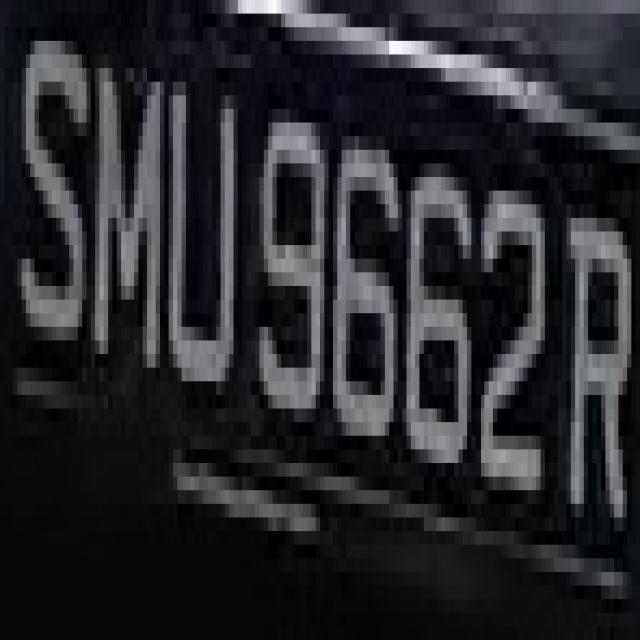2: (476, 150, 549, 531)
6: (398, 122, 480, 504), (324, 109, 398, 449)
8: (259, 54, 333, 463)
M: (86, 27, 164, 368)
R: (567, 136, 627, 558)
S: (13, 14, 99, 395)
U: (156, 54, 247, 395)
